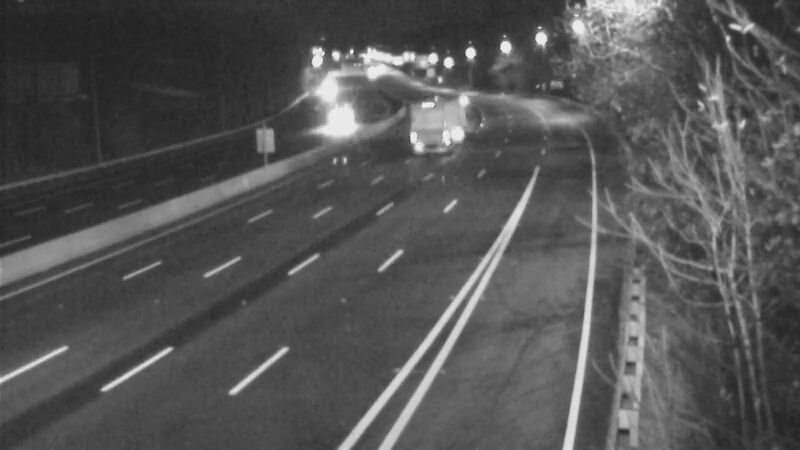vehicle: (424, 82, 474, 132), (320, 90, 370, 140), (306, 68, 356, 118)
